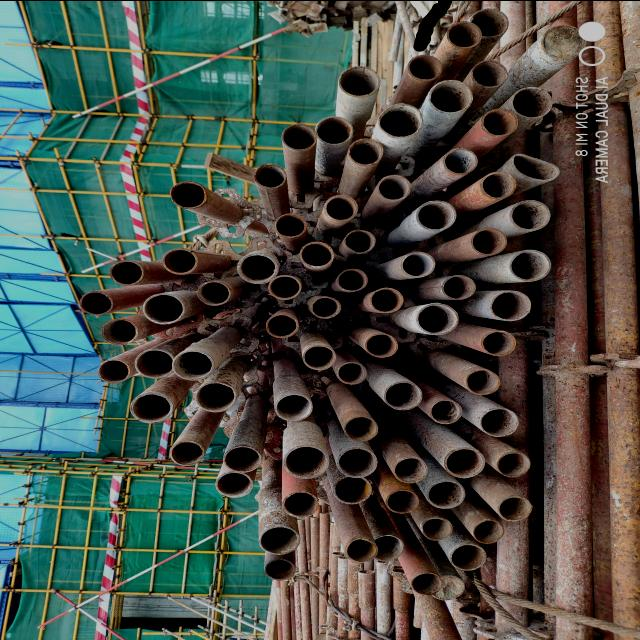pipe: (535, 20, 591, 66), (503, 245, 558, 286), (511, 147, 565, 187), (510, 195, 560, 235), (467, 4, 516, 41), (514, 82, 558, 122), (415, 300, 461, 338), (413, 198, 458, 235), (170, 346, 217, 380), (284, 444, 330, 478), (276, 120, 321, 154), (376, 102, 421, 136), (338, 442, 379, 478), (444, 447, 488, 480), (448, 541, 492, 574), (490, 288, 534, 321), (143, 290, 185, 324), (128, 392, 171, 424), (476, 168, 519, 200), (442, 146, 484, 178), (494, 448, 536, 480), (480, 406, 522, 438), (480, 106, 522, 138), (434, 78, 471, 114), (428, 394, 467, 428), (330, 474, 374, 504), (470, 57, 510, 90), (468, 226, 509, 258), (383, 378, 423, 410), (426, 476, 466, 508), (132, 348, 174, 378), (430, 570, 467, 604), (194, 277, 234, 308), (364, 330, 404, 361), (407, 52, 448, 82), (374, 530, 410, 564), (235, 248, 273, 280), (259, 526, 301, 554), (464, 366, 506, 394), (196, 381, 236, 410), (495, 494, 535, 523), (439, 272, 480, 300), (282, 490, 320, 520), (316, 114, 354, 144), (340, 66, 378, 96), (445, 18, 487, 44), (394, 452, 428, 484), (342, 224, 377, 255), (170, 180, 208, 208), (300, 342, 336, 371), (74, 290, 114, 316), (275, 393, 312, 421), (214, 470, 252, 497), (299, 236, 333, 266), (404, 249, 438, 279), (100, 318, 136, 346), (96, 358, 132, 386), (322, 193, 358, 221), (480, 330, 516, 358), (349, 134, 381, 165), (222, 445, 260, 471), (344, 415, 381, 441), (113, 258, 145, 288), (346, 535, 378, 565), (162, 248, 198, 274), (168, 440, 204, 466), (253, 163, 287, 190), (336, 267, 370, 294), (386, 490, 424, 514), (420, 514, 452, 542), (470, 516, 504, 542), (337, 358, 367, 386), (370, 286, 400, 314), (412, 568, 444, 594), (309, 296, 343, 320), (268, 312, 298, 339), (380, 173, 408, 201), (268, 272, 298, 298), (275, 212, 306, 236), (264, 558, 296, 580)
